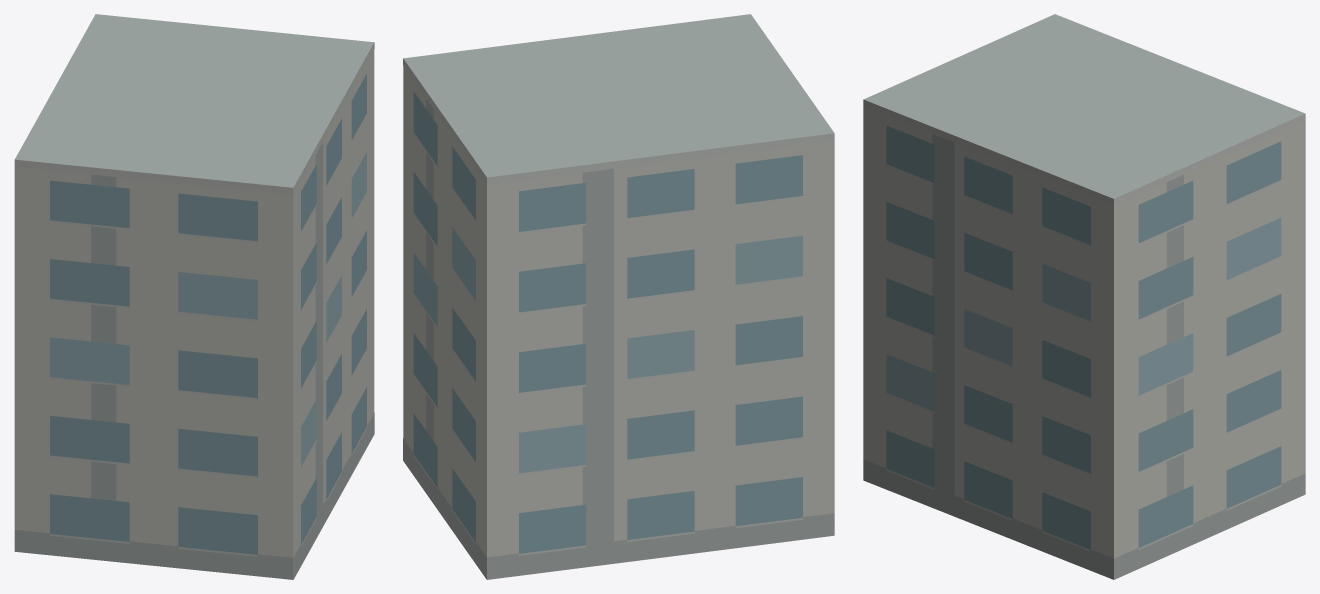
Rendered from survey-upis-32712094.glb.
The picture shows the model from 3 angles, left to right: view 1: azimuth 30°, elevation 25°; view 2: azimuth 150°, elevation 25°; view 3: azimuth 270°, elevation 25°; orthographic projection. The views are drawn at different scales.
Parts seen in each view (by area): view 1: survey-upis-32712094.tmp; view 2: survey-upis-32712094.tmp; view 3: survey-upis-32712094.tmp.
Boxes of the visible parts, <box> form: survey-upis-32712094.tmp: <box>14,14,374,579</box>; survey-upis-32712094.tmp: <box>403,14,834,579</box>; survey-upis-32712094.tmp: <box>863,14,1305,579</box>.
Size of the model in its own units: 13.75 by 13.2 by 13.89.
